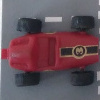rojo: (5, 17, 97, 85)
